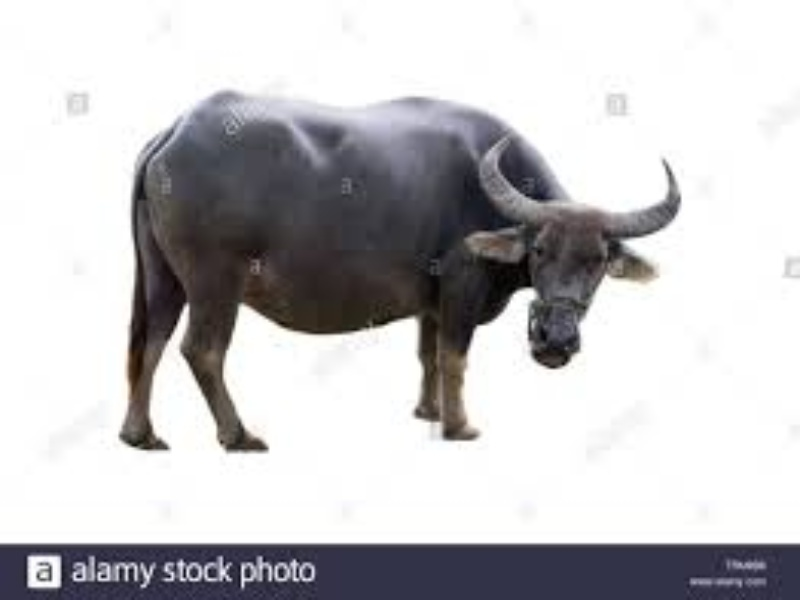buffalo: (111, 82, 692, 465)
